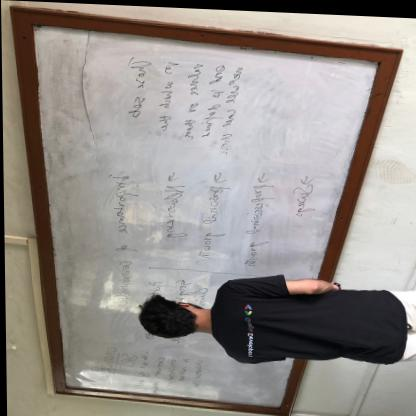Handwritten text: (94, 169, 136, 307), (194, 182, 233, 260), (241, 179, 274, 270), (147, 54, 179, 133), (115, 52, 151, 120), (151, 181, 189, 238), (178, 60, 205, 138), (282, 180, 326, 217), (84, 343, 116, 385), (143, 352, 162, 395), (132, 347, 148, 392), (184, 360, 205, 393), (159, 354, 176, 386), (173, 355, 189, 384), (115, 348, 135, 369)
Lecturer: (130, 264, 364, 371)
Whiteboard: (0, 19, 383, 416)
